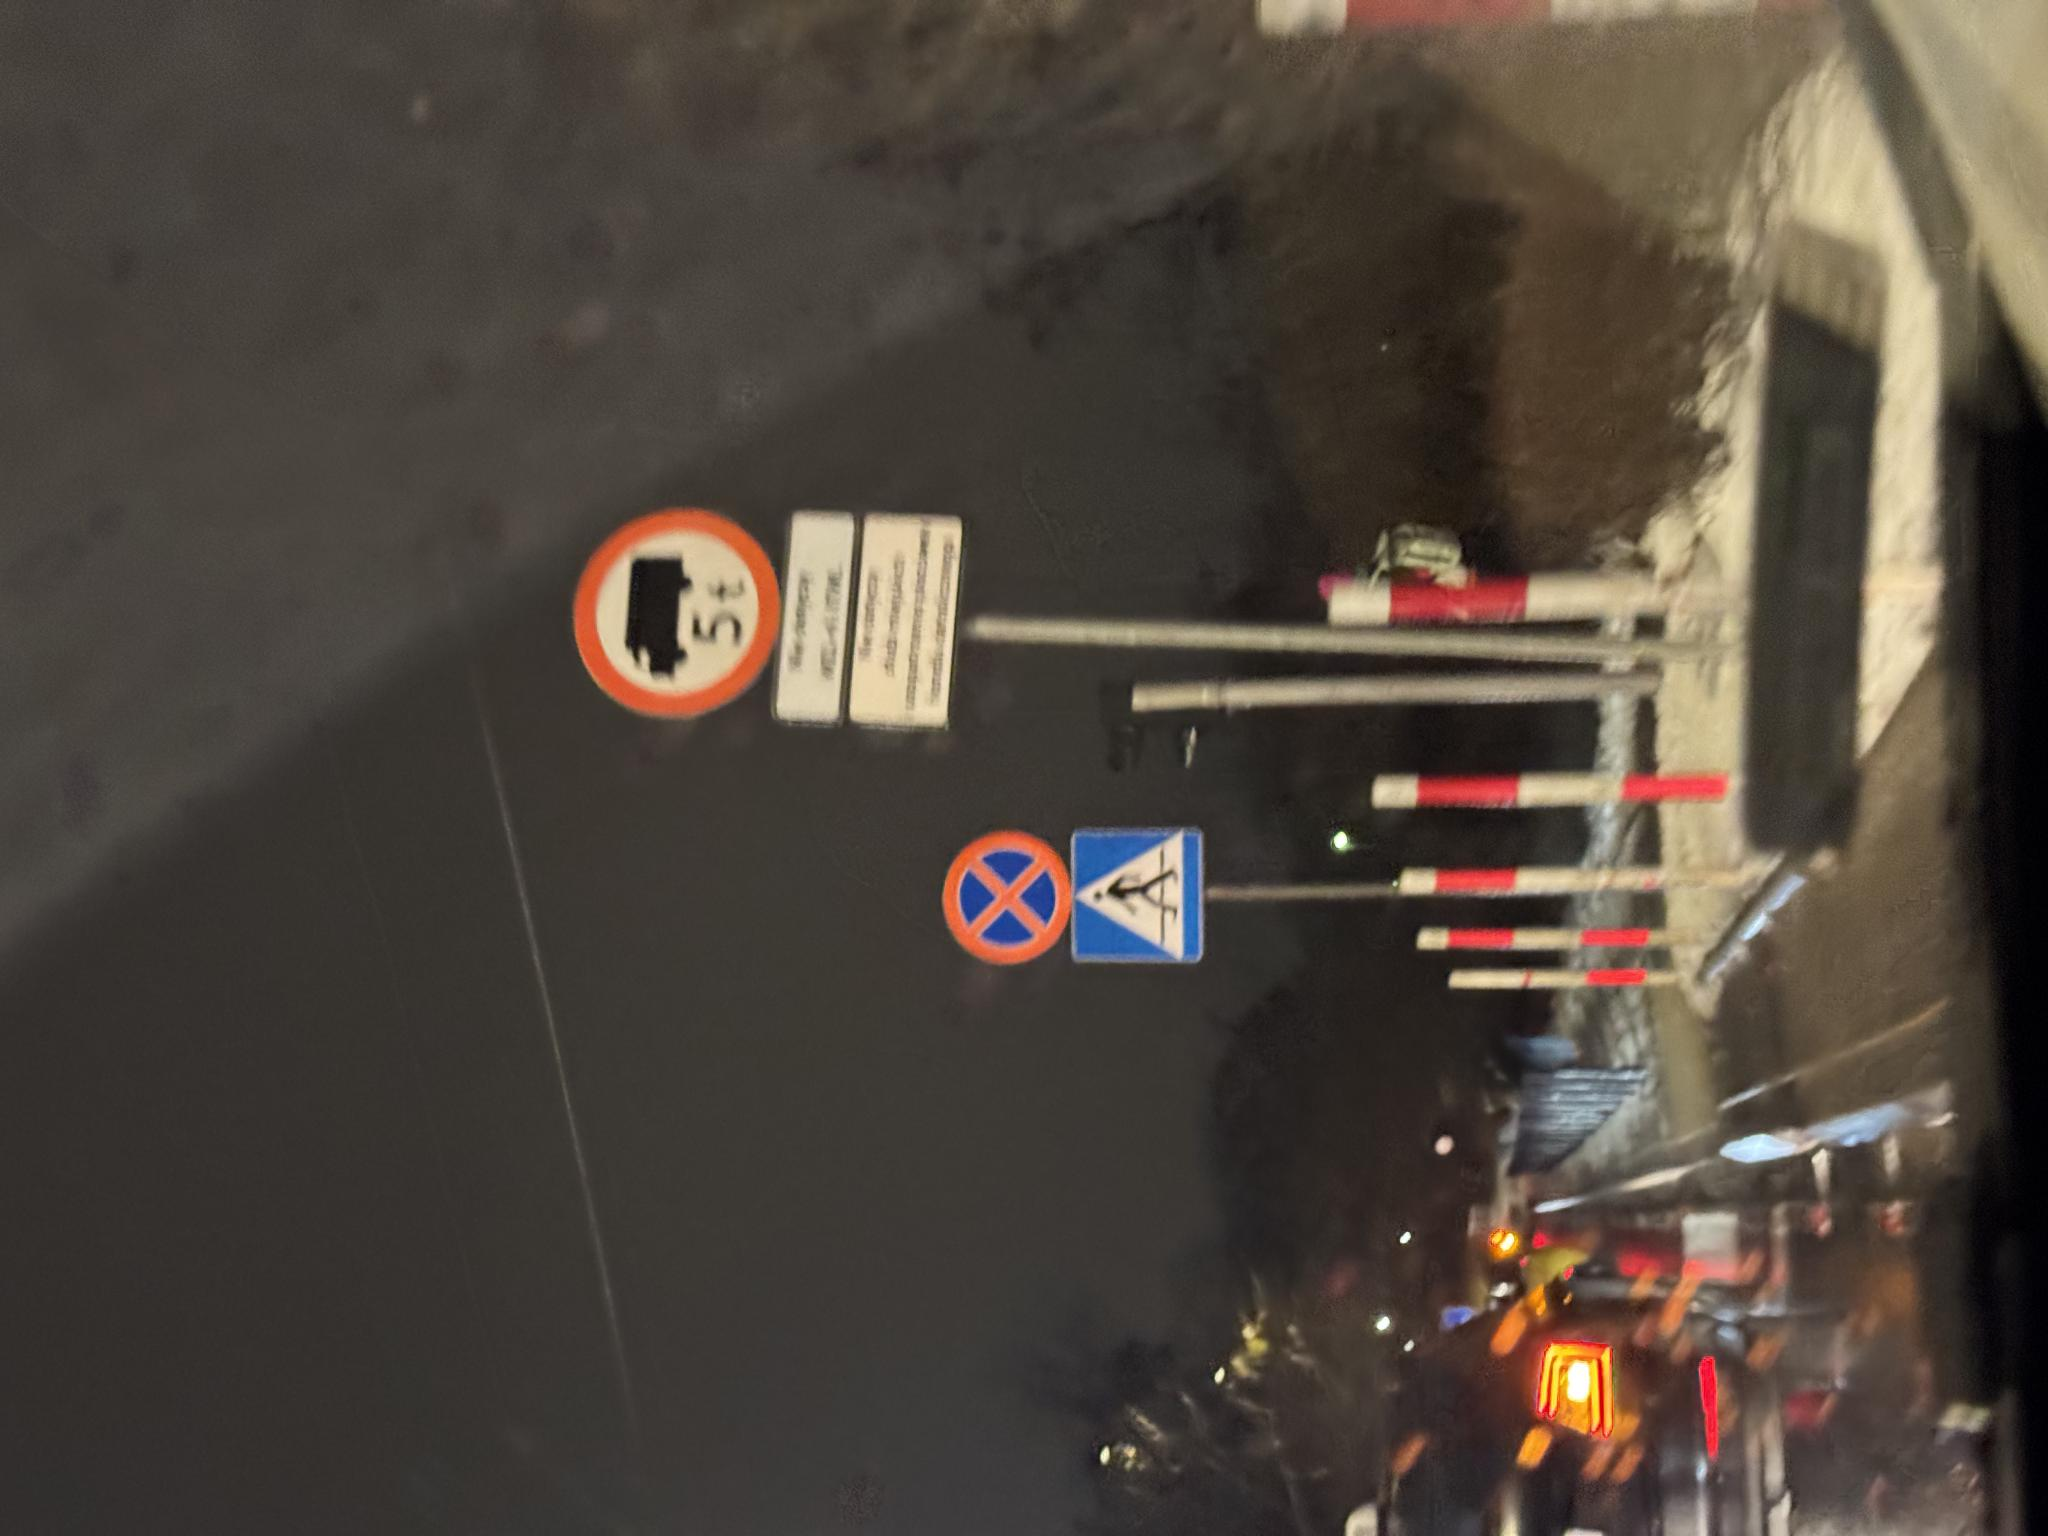information: (569, 1070, 713, 1205)
other: (806, 850, 1029, 970), (808, 773, 1029, 855)
prohibitory: (814, 571, 1030, 783), (569, 939, 708, 1073)
